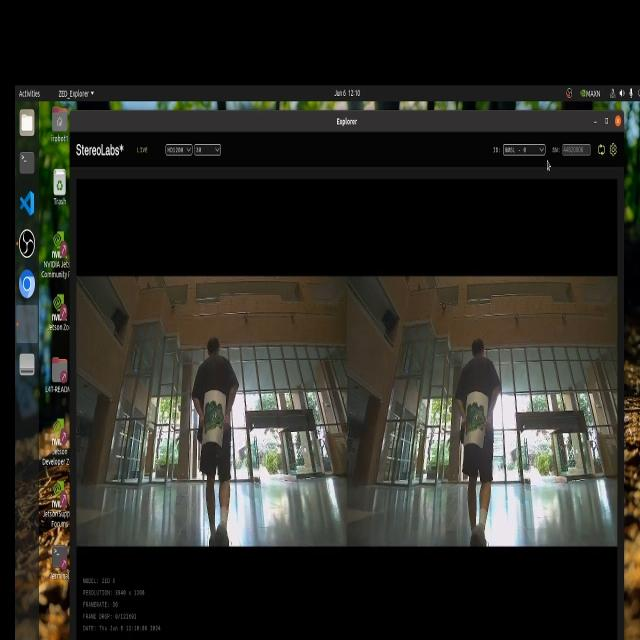green: (464, 400, 492, 441), (203, 399, 226, 437)
